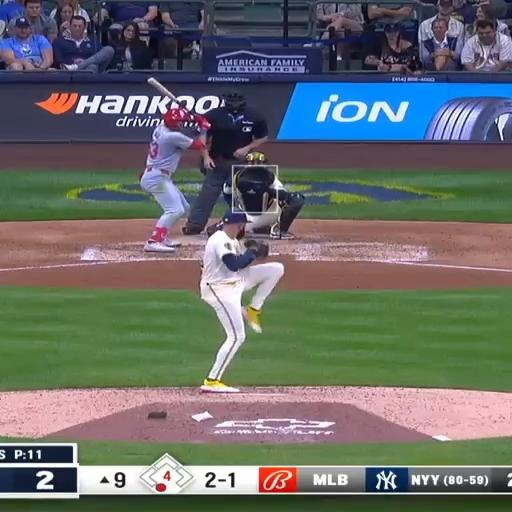bat: (147, 77, 191, 113)
